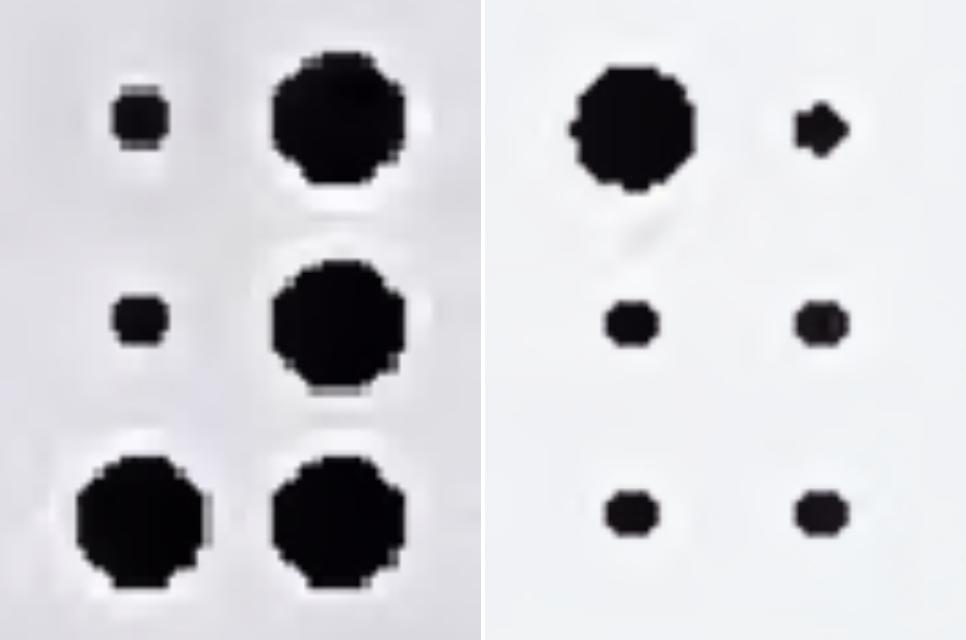digit_1: (573, 67, 853, 542)
number_sign: (75, 50, 406, 588)
